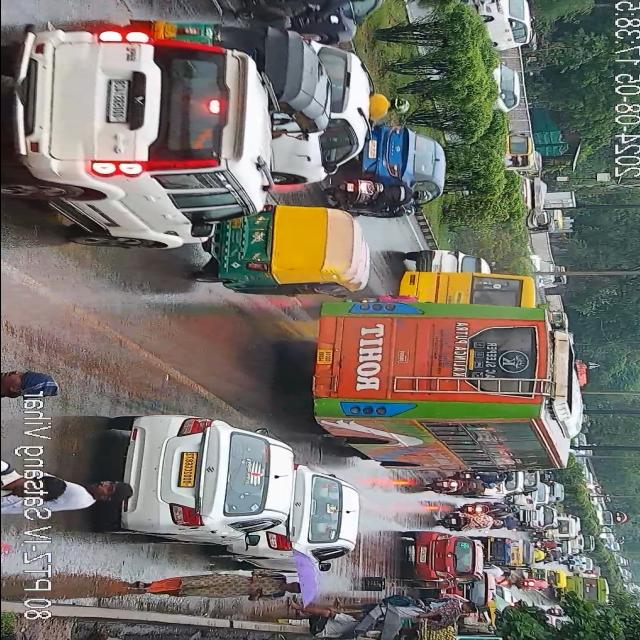2-wheelers: (330, 182, 426, 212), (223, 0, 367, 15), (426, 478, 493, 496), (436, 513, 486, 530), (510, 578, 554, 590), (497, 516, 522, 528), (534, 540, 562, 550), (464, 0, 496, 6), (534, 552, 550, 560), (554, 550, 566, 557), (548, 556, 558, 562)
auto: (135, 9, 331, 120), (188, 201, 368, 304), (483, 535, 526, 565), (501, 134, 533, 170), (528, 568, 568, 588)
bus: (310, 300, 574, 466), (396, 276, 536, 306), (560, 576, 608, 608)
car: (4, 22, 282, 253), (123, 417, 299, 548), (272, 47, 368, 192), (250, 472, 356, 566), (382, 130, 442, 214), (302, 0, 396, 44), (408, 529, 474, 586), (483, 0, 532, 49), (412, 248, 488, 273), (490, 62, 520, 110), (370, 94, 410, 122), (493, 470, 523, 500), (518, 480, 546, 510), (542, 516, 579, 538), (526, 505, 554, 533), (512, 468, 540, 494)
pedestrian: (124, 571, 298, 606), (0, 476, 126, 514), (301, 606, 369, 636), (341, 602, 437, 622)
